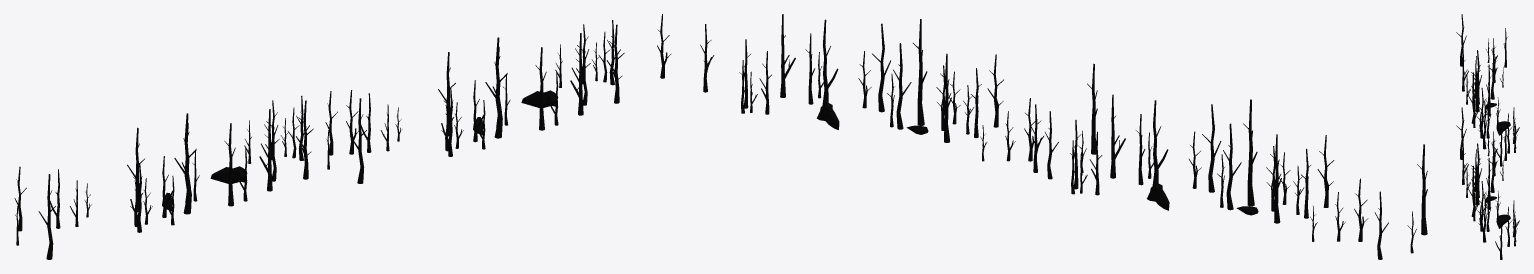
Rendered from winter_forest.dae.
3 renders of one model, left to right at view 1: azimuth 30°, elevation 25°; view 2: azimuth 150°, elevation 25°; view 3: azimuth 270°, elevation 25°, orthographic. The views are drawn at different scales.
Parts seen in each view (by area): view 1: Tree1.009_BG_Tree_0.001; view 2: Tree1.009_BG_Tree_0.001; view 3: Tree1.009_BG_Tree_0.001.
Boxes of the visible parts, x1,y1,x2,y2 form: Tree1.009_BG_Tree_0.001: [14, 14, 671, 259]; Tree1.009_BG_Tree_0.001: [700, 14, 1427, 259]; Tree1.009_BG_Tree_0.001: [1456, 14, 1519, 259].
Bounding box in the file's own units: 501 × 67.74 × 73.23.
1 material, 1 textured.
